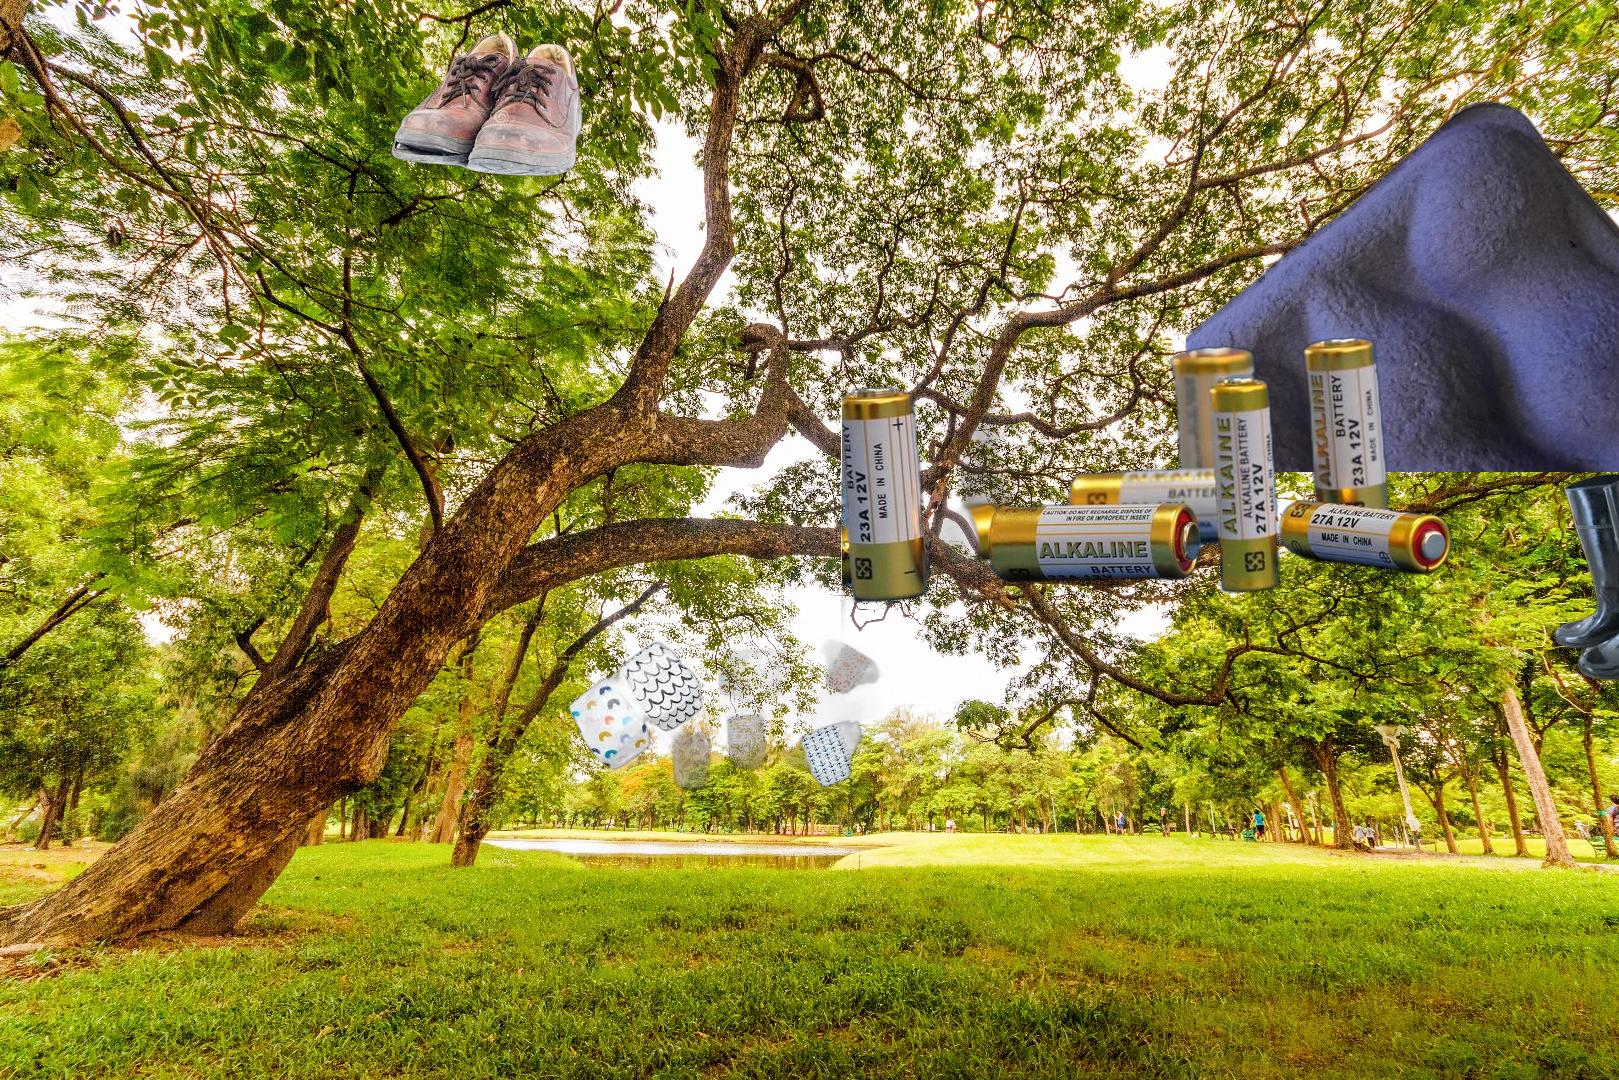battery: (841, 270, 1457, 702)
paper: (1186, 100, 1619, 472)
shoes: (389, 27, 586, 180), (1551, 466, 1619, 683)
trash: (567, 635, 885, 794)
